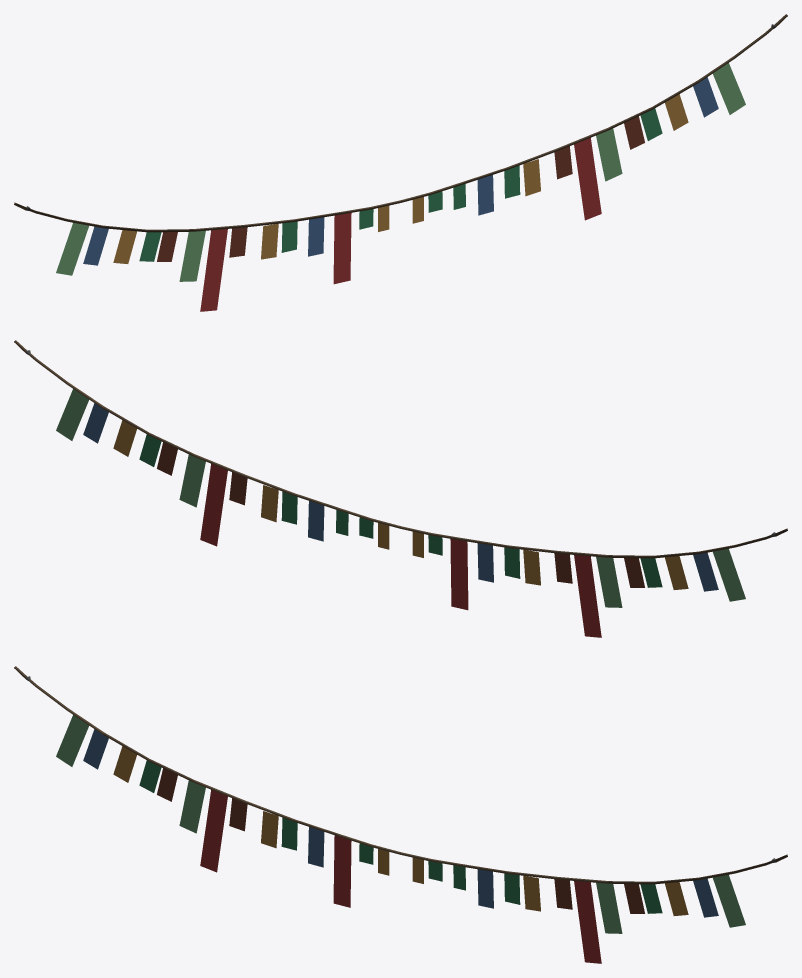
File: ZLP_Build_F_17.FBX
3 views of the same model, one above another, from view 1: azimuth 30°, elevation 25°; view 2: azimuth 150°, elevation 25°; view 3: azimuth 330°, elevation 25° (orthographic).
Parts seen in each view (by area): view 1: ZLP_Build_F_17; view 2: ZLP_Build_F_17; view 3: ZLP_Build_F_17.
Boxes of the visible parts, bbox=[...] form: ZLP_Build_F_17: bbox=[14, 14, 787, 311]; ZLP_Build_F_17: bbox=[14, 340, 787, 637]; ZLP_Build_F_17: bbox=[14, 666, 787, 963].
Size of the model in its own units: 1225 by 241 by 7.66.
